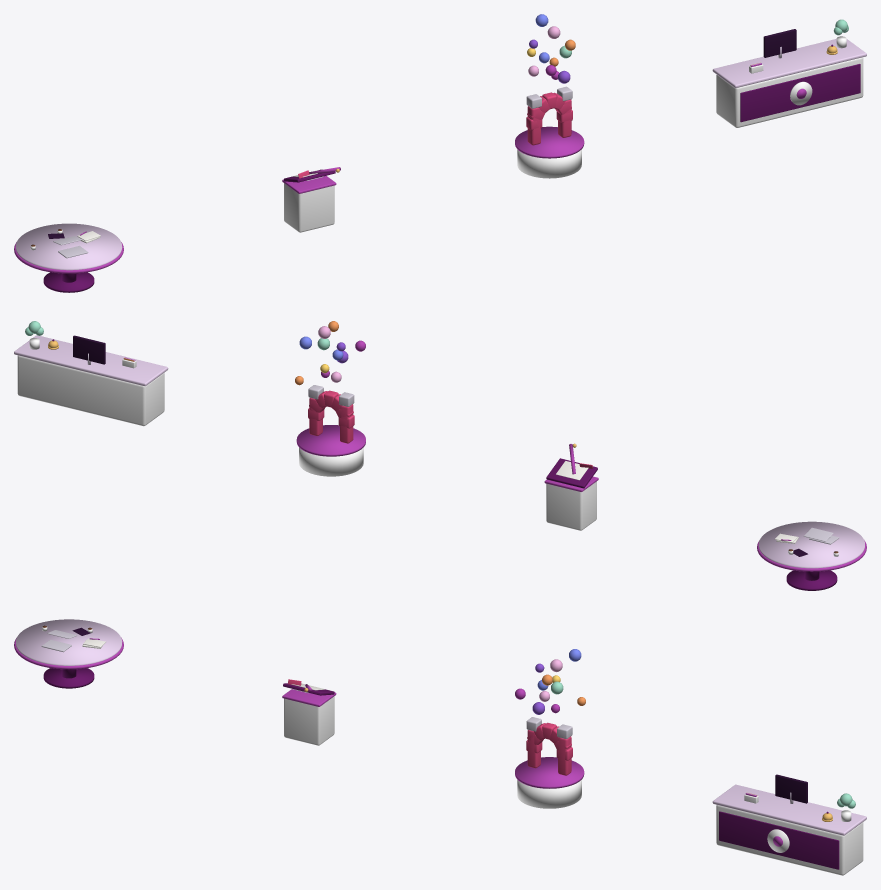
The model's file is sales_b.glb.
The picture shows the model from 3 angles, top to bottom: view 1: azimuth 30°, elevation 25°; view 2: azimuth 150°, elevation 25°; view 3: azimuth 330°, elevation 25°; orthographic projection.
Parts seen in each view (by area): view 1: TableTop, FrontPlate, DeskTop, DeskBase, PodiumBody, PlinthCap, Plinth, Foot, MonitorBack; view 2: DeskBase, TableTop, DeskTop, PodiumBody, PlinthCap, Plinth, Foot, MonitorBack, Slope; view 3: TableTop, FrontPlate, DeskTop, DeskBase, PodiumBody, PlinthCap, Plinth, Foot, MonitorBack, PodiumTrim, TableRim.
Boxes of the visible parts, bbox=[...] form: TableTop: bbox=[16, 223, 122, 270]; FrontPlate: bbox=[740, 64, 860, 122]; DeskTop: bbox=[712, 39, 866, 87]; DeskBase: bbox=[716, 57, 863, 127]; PodiumBody: bbox=[284, 183, 334, 232]; PlinthCap: bbox=[515, 126, 584, 158]; Plinth: bbox=[517, 149, 581, 178]; Foot: bbox=[43, 272, 94, 292]; MonitorBack: bbox=[763, 29, 796, 57]; DeskBase: bbox=[17, 355, 164, 426]; TableTop: bbox=[758, 521, 864, 568]; DeskTop: bbox=[14, 335, 168, 386]; PodiumBody: bbox=[546, 481, 596, 530]; PlinthCap: bbox=[296, 425, 365, 456]; Plinth: bbox=[299, 447, 363, 476]; Foot: bbox=[786, 570, 837, 590]; MonitorBack: bbox=[73, 335, 105, 364]; Slope: bbox=[546, 458, 597, 488]; TableTop: bbox=[16, 619, 122, 665]; FrontPlate: bbox=[719, 811, 839, 869]; DeskTop: bbox=[712, 784, 866, 835]; DeskBase: bbox=[716, 805, 863, 875]; PodiumBody: bbox=[284, 696, 334, 745]; PlinthCap: bbox=[515, 757, 584, 788]; Plinth: bbox=[517, 779, 581, 808]; Foot: bbox=[43, 668, 94, 688]; MonitorBack: bbox=[775, 774, 807, 803]; PodiumTrim: bbox=[282, 689, 336, 706]; TableRim: bbox=[14, 637, 123, 669].
Bounding box in the file's own units: 20.84 × 3.24 × 2.38.
